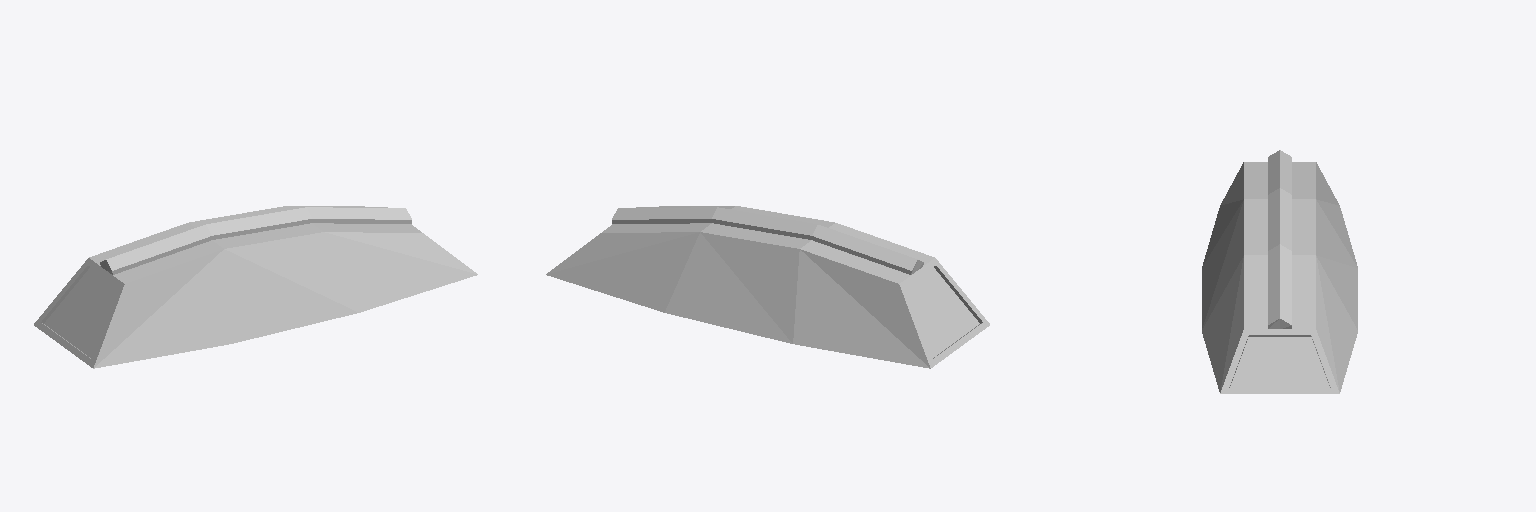
File: thing.obj
3 views of the same model, side by side, from view 1: azimuth 30°, elevation 25°; view 2: azimuth 150°, elevation 25°; view 3: azimuth 270°, elevation 25° (orthographic).
Visible parts, largest first — view 1: Cube; view 2: Cube; view 3: Cube.
Boxes of the visible parts, x1=… form: Cube: x1=34, y1=206, x2=477, y2=368; Cube: x1=546, y1=206, x2=989, y2=368; Cube: x1=1202, y1=150, x2=1357, y2=393.
Bounding box in the file's own units: 403 × 87.56 × 142.